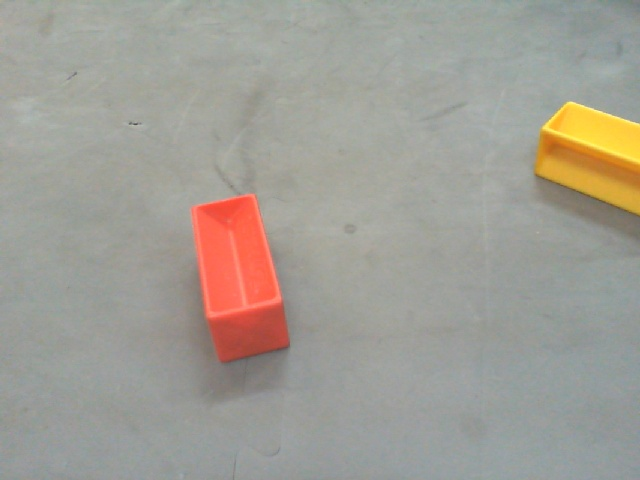RedSample: (193, 194, 293, 358)
YellowSample: (531, 100, 640, 215)
